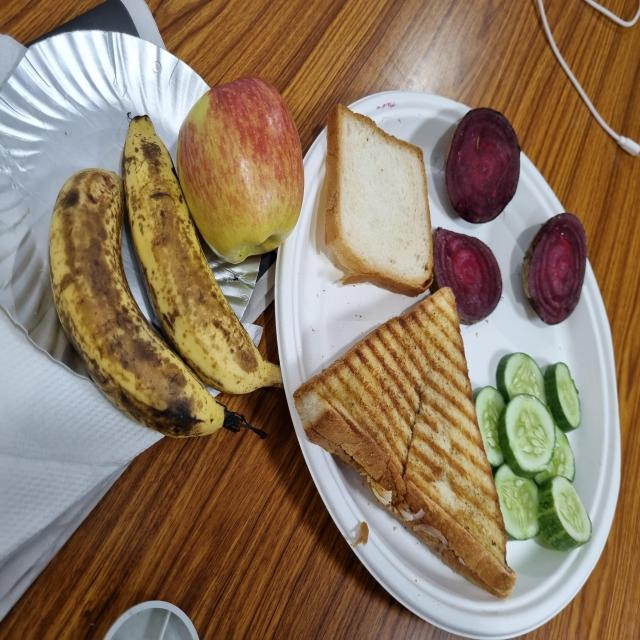apple: (173, 77, 305, 264)
banana: (48, 170, 226, 440), (120, 116, 280, 397)
cucumber: (532, 476, 591, 554), (503, 397, 561, 474), (494, 465, 541, 544), (473, 387, 512, 472), (541, 363, 584, 436), (497, 353, 545, 403), (541, 432, 573, 481)
